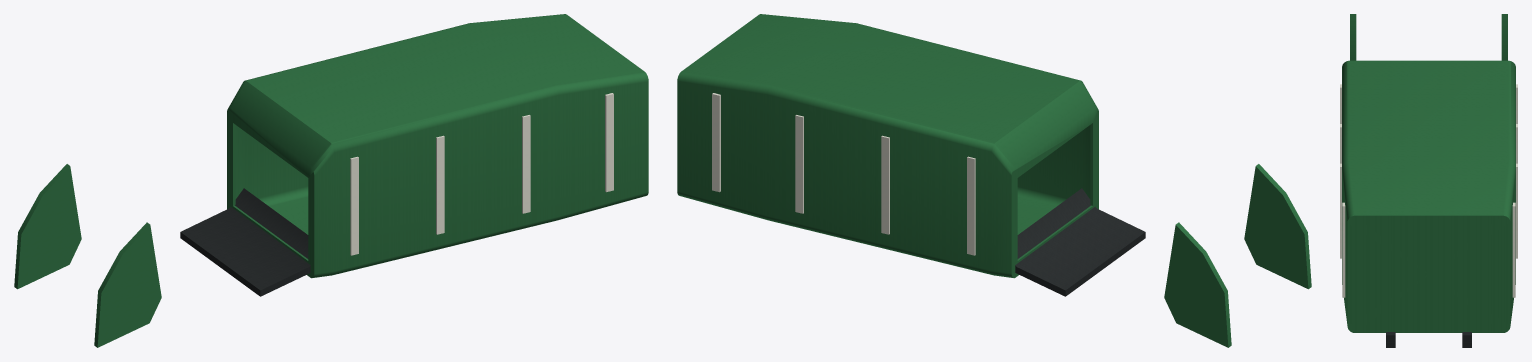
File: refuse_body.glb
3 renders of one model, left to right at view 1: azimuth 30°, elevation 25°; view 2: azimuth 150°, elevation 25°; view 3: azimuth 270°, elevation 25°, orthographic. The views are drawn at different scales.
Parts seen in each view (by area): view 1: Refuse shaped hollow container with open rear throat, Finite sloping rear loading hopper floor, Rear hopper seated side cheek 1, Rear hopper seated side cheek -1, Refuse body seated reinforcing rib -1 3, Refuse body seated reinforcing rib -1 0, Refuse body seated reinforcing rib -1 1, Refuse body seated reinforcing rib -1 2; view 2: Refuse shaped hollow container with open rear throat, Finite sloping rear loading hopper floor, Rear hopper seated side cheek -1, Rear hopper seated side cheek 1, Refuse body seated reinforcing rib 1 3, Refuse body seated reinforcing rib 1 0, Refuse body seated reinforcing rib 1 1, Refuse body seated reinforcing rib 1 2; view 3: Refuse shaped hollow container with open rear throat, Refuse body seated reinforcing rib -1 3, Refuse body seated reinforcing rib 1 3, Rear hopper seated side cheek -1, Rear hopper seated side cheek 1, Refuse body seated reinforcing rib -1 2, Refuse body seated reinforcing rib 1 2, Refuse body chassis mounting runner -1, Refuse body chassis mounting runner 1.
Part boxes in pixels (x1,y1,x2,y2): Refuse shaped hollow container with open rear throat: [227, 14, 648, 278]; Finite sloping rear loading hopper floor: [180, 188, 310, 296]; Rear hopper seated side cheek 1: [14, 164, 81, 289]; Rear hopper seated side cheek -1: [94, 222, 161, 347]; Refuse body seated reinforcing rib -1 3: [605, 93, 613, 192]; Refuse body seated reinforcing rib -1 0: [350, 156, 358, 255]; Refuse body seated reinforcing rib -1 1: [436, 135, 444, 234]; Refuse body seated reinforcing rib -1 2: [522, 115, 530, 213]; Refuse shaped hollow container with open rear throat: [677, 14, 1098, 278]; Finite sloping rear loading hopper floor: [1015, 188, 1145, 296]; Rear hopper seated side cheek -1: [1244, 164, 1311, 289]; Rear hopper seated side cheek 1: [1164, 222, 1231, 347]; Refuse body seated reinforcing rib 1 3: [712, 93, 720, 192]; Refuse body seated reinforcing rib 1 0: [967, 156, 975, 255]; Refuse body seated reinforcing rib 1 1: [881, 135, 889, 234]; Refuse body seated reinforcing rib 1 2: [795, 115, 803, 213]; Refuse shaped hollow container with open rear throat: [1342, 60, 1515, 332]; Refuse body seated reinforcing rib -1 3: [1342, 202, 1345, 297]; Refuse body seated reinforcing rib 1 3: [1512, 202, 1515, 297]; Rear hopper seated side cheek -1: [1350, 14, 1356, 60]; Rear hopper seated side cheek 1: [1501, 14, 1507, 60]; Refuse body seated reinforcing rib -1 2: [1340, 163, 1341, 258]; Refuse body seated reinforcing rib 1 2: [1516, 163, 1517, 258]; Refuse body chassis mounting runner -1: [1386, 332, 1395, 347]; Refuse body chassis mounting runner 1: [1462, 332, 1471, 347].
Size of the model in its own units: 8.77 by 2.28 by 2.56.
Materials: 3 (3 with a texture image).
